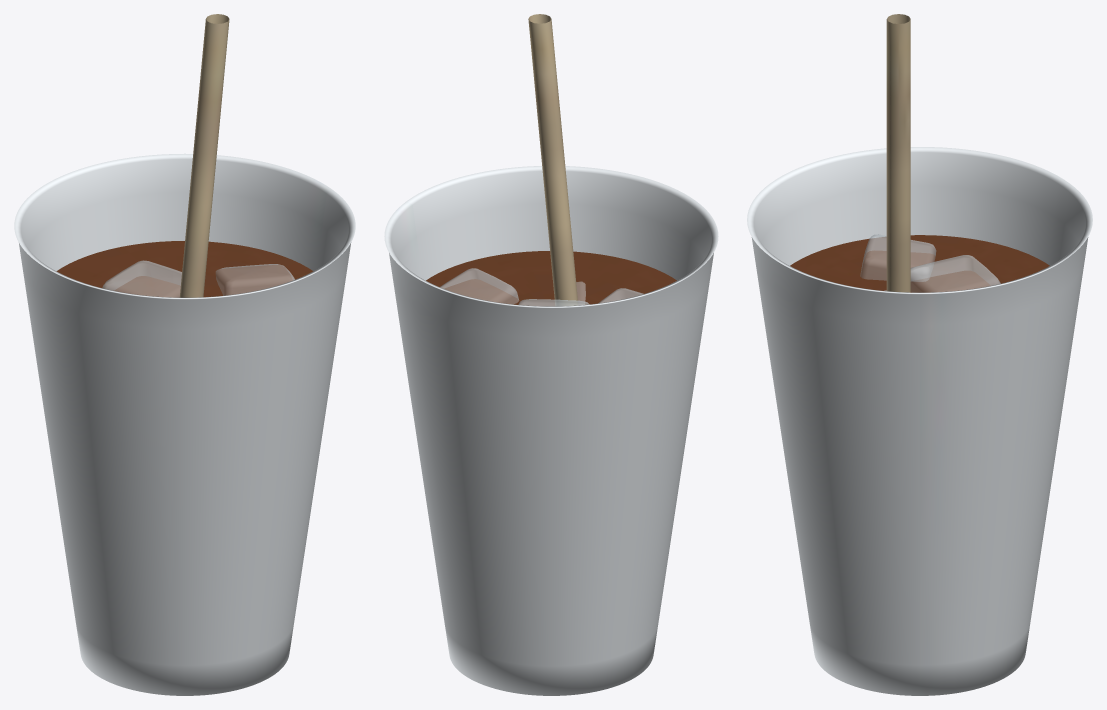
File: iced-mochaccino.glb
3 views of the same model, side by side, from view 1: azimuth 30°, elevation 25°; view 2: azimuth 150°, elevation 25°; view 3: azimuth 270°, elevation 25° (orthographic). The views are drawn at different scales.
Parts seen in each view (by area): view 1: clear, gloss, satin, ice; view 2: clear, gloss, satin, ice; view 3: clear, gloss, satin, ice.
Part boxes in pixels (bbox=[...]): clear: bbox=[14, 153, 355, 695]; gloss: bbox=[56, 241, 313, 297]; satin: bbox=[179, 14, 229, 297]; ice: bbox=[102, 260, 294, 297]; clear: bbox=[384, 166, 718, 695]; gloss: bbox=[426, 251, 676, 305]; satin: bbox=[528, 14, 577, 305]; ice: bbox=[440, 268, 643, 306]; clear: bbox=[747, 147, 1092, 695]; gloss: bbox=[790, 235, 1049, 292]; satin: bbox=[886, 14, 910, 292]; ice: bbox=[860, 234, 1000, 292].
Bounding box in the file's own units: 0.098 × 0.201 × 0.098.
4 materials, 4 textured.
